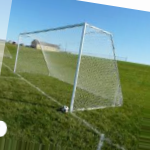goals: (11, 19, 124, 116)
